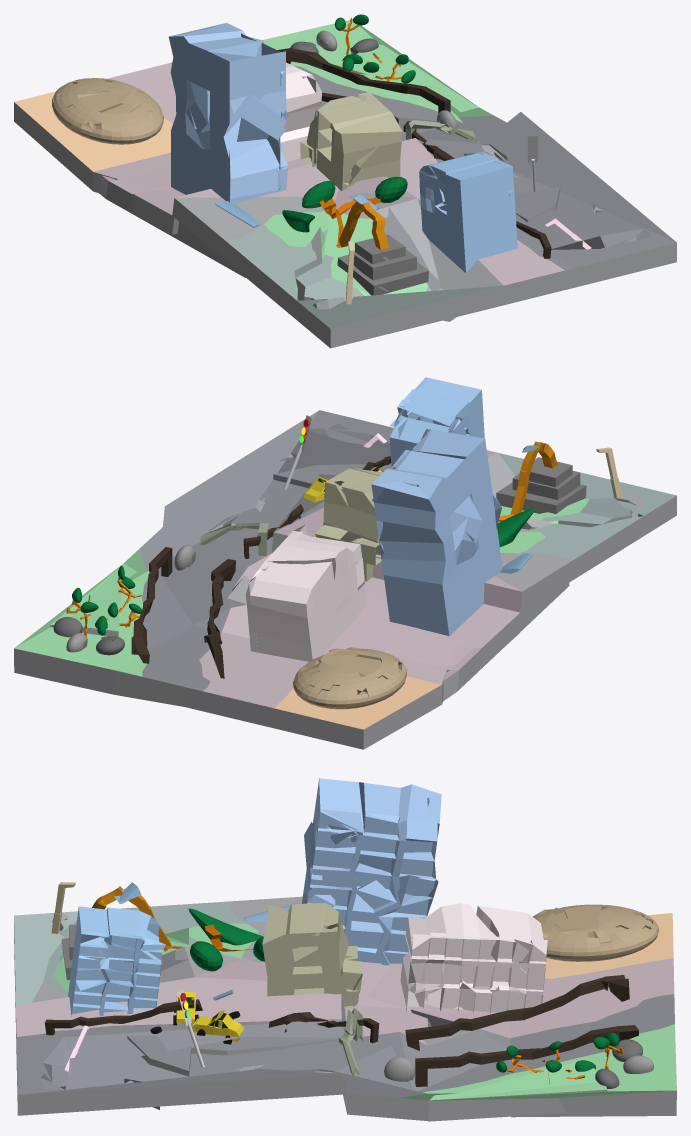
Rendered from environment.fbx.
3 renders of one model, top to bottom at view 1: azimuth 30°, elevation 25°; view 2: azimuth 150°, elevation 25°; view 3: azimuth 270°, elevation 25°, orthographic. The views are drawn at different scales.
Parts seen in each view (by area): view 1: land, building2, building4, building3, stadium, building1, railing, step1, step2, tree trunk.004, step3, leaf9 (+3 smaller); view 2: land, building2, building1, stadium, building4, building3, railing, railing.004, step1, tree trunk.004, step2, step3 (+3 smaller); view 3: land, building2, building1, building4, building3, stadium, railing.004, railing, railing.002, leaf, car2, railing.003 (+5 smaller).
Part boxes in pixels (bbox=[...]): land: bbox=[14, 19, 676, 348]; building2: bbox=[168, 23, 288, 203]; building4: bbox=[419, 151, 517, 272]; building3: bbox=[306, 92, 402, 190]; stadium: bbox=[52, 78, 163, 144]; building1: bbox=[280, 62, 321, 162]; railing: bbox=[277, 48, 450, 113]; step1: bbox=[337, 254, 428, 295]; step2: bbox=[353, 249, 416, 280]; tree trunk.004: bbox=[339, 201, 388, 249]; step3: bbox=[355, 234, 405, 264]; leaf9: bbox=[375, 177, 407, 202]; land: bbox=[14, 410, 676, 749]; building2: bbox=[371, 429, 502, 636]; building1: bbox=[245, 524, 366, 661]; stadium: bbox=[293, 647, 406, 709]; building4: bbox=[389, 377, 484, 467]; building3: bbox=[323, 467, 382, 554]; railing: bbox=[131, 547, 172, 663]; railing.004: bbox=[204, 559, 235, 678]; step1: bbox=[496, 482, 586, 513]; tree trunk.004: bbox=[510, 441, 557, 514]; step2: bbox=[512, 471, 580, 499]; step3: bbox=[528, 457, 572, 487]; land: bbox=[14, 896, 676, 1121]; building2: bbox=[302, 778, 441, 965]; building1: bbox=[400, 903, 547, 1014]; building4: bbox=[68, 906, 165, 1016]; building3: bbox=[262, 902, 349, 996]; stadium: bbox=[533, 904, 659, 961]; railing.004: bbox=[405, 975, 629, 1050]; railing: bbox=[415, 1025, 638, 1086]; railing.002: bbox=[44, 999, 202, 1035]; leaf: bbox=[188, 908, 262, 945]; car2: bbox=[192, 1010, 243, 1041]; railing.003: bbox=[268, 1012, 379, 1043].
Size of the model in its own units: 1239 by 625 by 1908.
